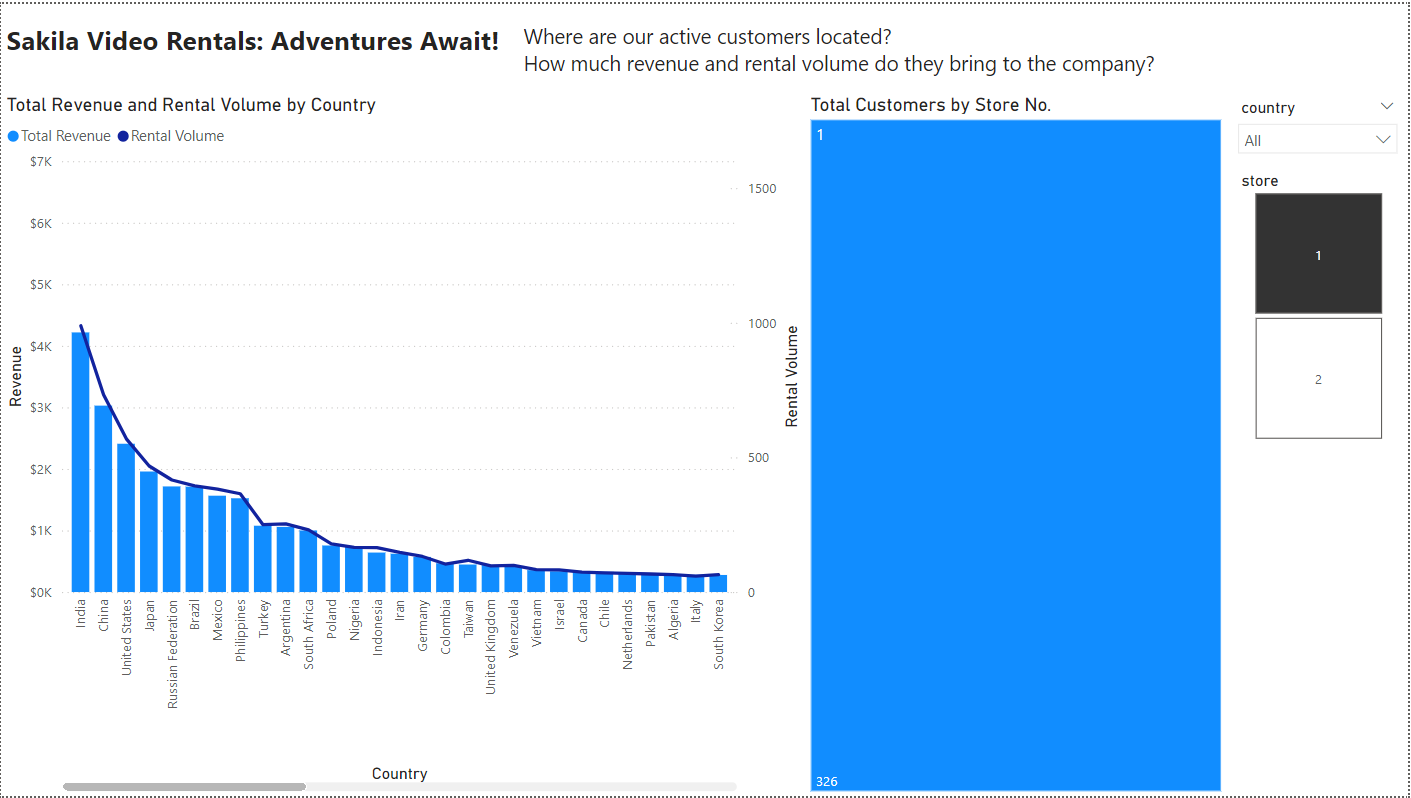

Layout of this report page (visuals, bound fields, positions):
{"tool":"powerbi","page":{"name":"Country Store Dashboard","canvas":[1280,720],"ordinal":1},"visuals":[{"type":"lineClusteredColumnComboChart","title":"Total Revenue and Popularity by Country","fields":{"Category":["country_store_rev_vol.country"],"Y":["Sum(country_store_rev_vol.total_revenue)"],"Y2":["Sum(country_store_rev_vol.rental_volume)"]},"box":[0,80.9,730.9,640],"z":0},{"type":"textbox","box":[470.2,11.2,615.7,69.7],"z":1000},{"type":"treemap","fields":{"Group":["country_store_active.store","country_store_rev_vol.country"],"Values":["Sum(country_store_active.total_customers)"]},"box":[730.9,80.9,383.6,640],"z":2000},{"type":"slicer","fields":{"Values":["country_store_rev_vol.country"]},"box":[1114.5,80.9,164.5,66.4],"z":3000},{"type":"slicer","fields":{"Values":["country_store_rev_vol.store"]},"box":[1114.5,147.3,164.5,254.5],"z":4000},{"type":"textbox","box":[0,11.2,471.4,52.2],"z":5000}]}

Visuals, with their boxes in screenshot pixels (x1, y1, x2, y2), scaled from the page's 1280x720 canvas onto the 1411x798 screenshot:
"Total Revenue and Popularity by Country" lineClusteredColumnComboChart: {"left": 0, "top": 90, "right": 806, "bottom": 797}
textbox: {"left": 518, "top": 12, "right": 1197, "bottom": 90}
treemap - country_store_active.store x country_store_rev_vol.country: {"left": 806, "top": 90, "right": 1229, "bottom": 797}
slicer - country_store_rev_vol.country: {"left": 1229, "top": 90, "right": 1410, "bottom": 163}
slicer - country_store_rev_vol.store: {"left": 1229, "top": 163, "right": 1410, "bottom": 445}
textbox: {"left": 0, "top": 12, "right": 520, "bottom": 70}
